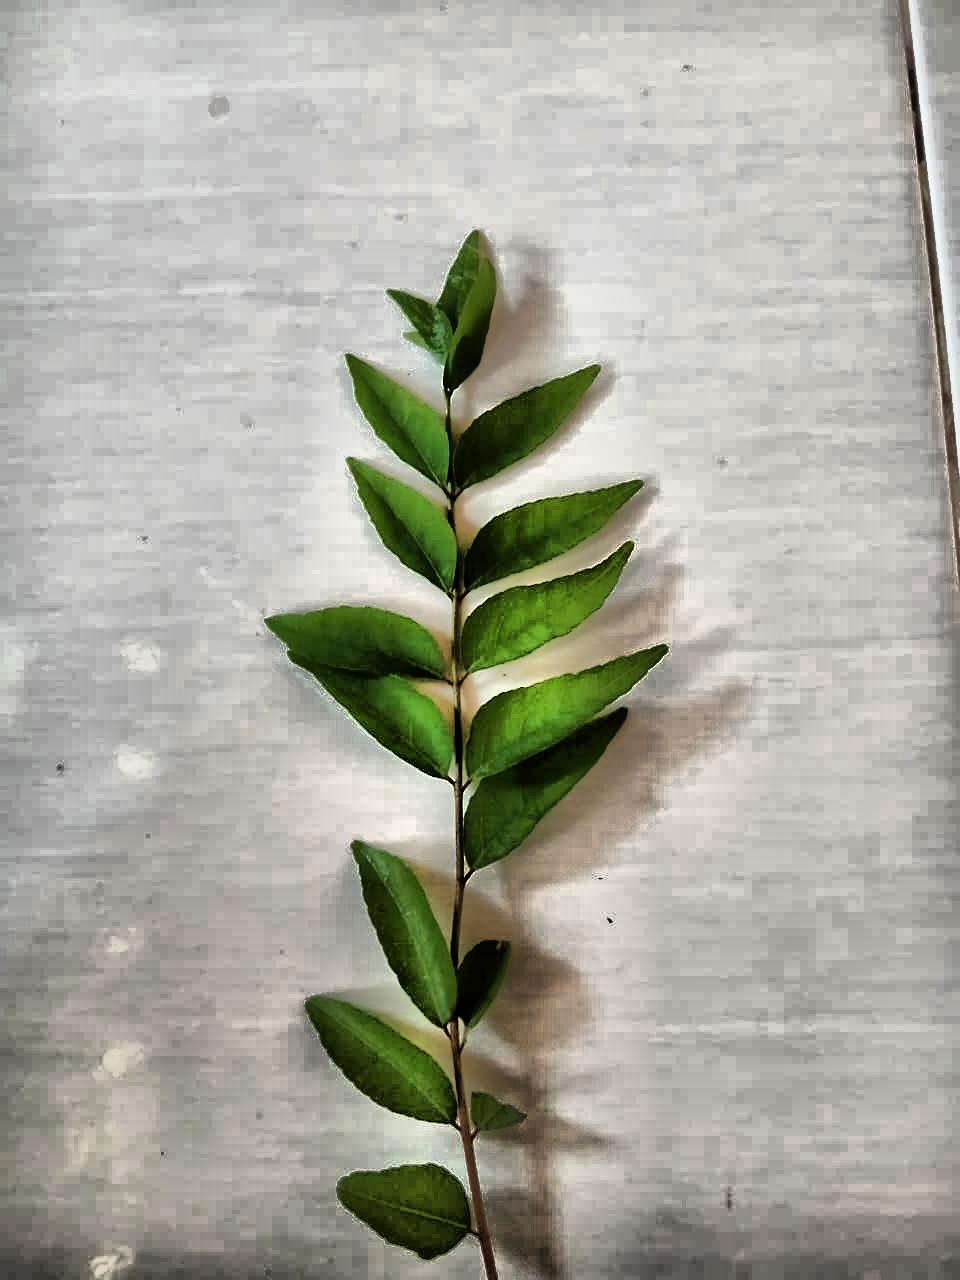daun kari: (266, 237, 666, 1279)
